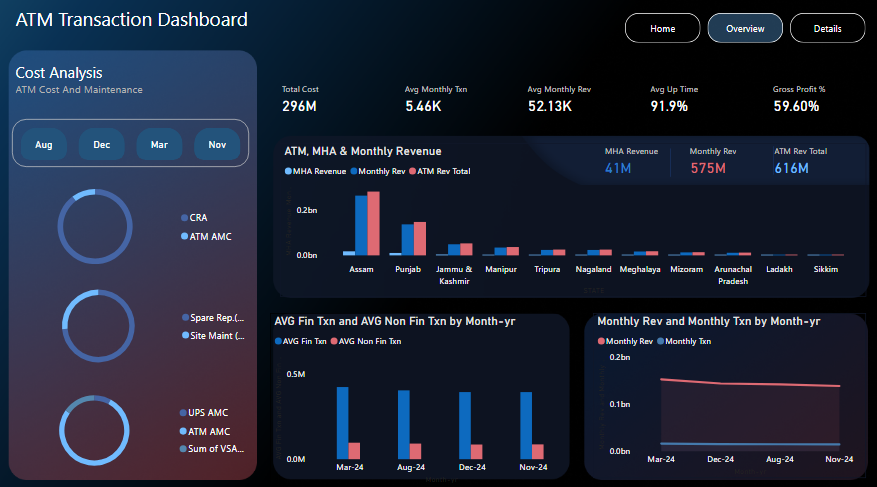

What the dashboard file says about the page in this screenshot:
{"tool":"powerbi","page":{"name":"Overview","canvas":[1280,720],"ordinal":1},"visuals":[{"type":"donutChart","fields":{"Y":["Sum(Dataset.CRA)","Sum(Dataset.ATM AMC)"]},"box":[25.5,262.2,334.5,143.1],"z":0},{"type":"donutChart","fields":{"Y":["Sum(Dataset.Spare Rep.(UPS))","Sum(Dataset.Site Maint (Non Asset))"]},"box":[34,405.4,345.8,138.9],"z":1000},{"type":"donutChart","fields":{"Y":["Sum(Dataset.UPS AMC)","Sum(Dataset.ATM AMC)","Sum(Dataset.VSAT AMC)"]},"box":[25.5,555.6,354.3,134.6],"z":2000},{"type":"clusteredColumnChart","fields":{"Y":["Sum(Dataset.AVG Fin Txn)","Sum(Dataset.AVG Non Fin Txn)"],"Category":["Dataset.Month-yr"]},"box":[399.7,456.4,430.9,245.2],"z":3000},{"type":"cardVisual","fields":{"Data":["Sum(Dataset.MHA Revenue)","Sum(Dataset.Monthly Rev)","Sum(Dataset.ATM Rev Total)"]},"box":[857.1,201.4,372.9,75.7],"z":4000},{"type":"areaChart","fields":{"Category":["Dataset.Month-yr"],"Y":["Sum(Dataset.Monthly Rev)","Sum(Dataset.Monthly Txn)"]},"box":[857.5,456.4,386.9,233.9],"z":5000},{"type":"advancedSlicerVisual","fields":{"Values":["Dataset.Short Month"]},"box":[34,181.4,335.9,68],"z":6000},{"type":"textbox","box":[34.3,94.3,345.7,64.3],"z":7000},{"type":"cardVisual","fields":{"Data":["Sum(Dataset. Total Cost  )","Avg(Dataset.Monthly Txn)","Avg(Dataset.Monthly Rev)","Avg(Dataset.Up Time)","Dataset.Gross Profit Percentage"]},"box":[399.7,112,880.2,80.8],"z":8000},{"type":"clusteredColumnChart","title":"ATM, MHA & Monthly Revenue","fields":{"Y":["Sum(Dataset.MHA Revenue)","Sum(Dataset.Monthly Rev)","Sum(Dataset.ATM Rev Total)"],"Category":["Dataset.STATE"]},"box":[413.9,215.4,830.6,218.3],"z":9000},{"type":"pageNavigator","box":[902.8,31.2,341.6,42.5],"z":10000},{"type":"textbox","box":[34,15.6,345.8,73.7],"z":11000}]}

Visuals, with their boxes in screenshot pixels (x1, y1, x2, y2), scaled from the page's 1280x720 canvas onto the 877x487 screenshot:
donutChart - Sum(Dataset.CRA) x Sum(Dataset.ATM AMC): [left=17, top=177, right=247, bottom=274]
donutChart - Sum(Dataset.Spare Rep.(UPS)) x Sum(Dataset.Site Maint (Non Asset)): [left=23, top=274, right=260, bottom=368]
donutChart - Sum(Dataset.UPS AMC) x Sum(Dataset.ATM AMC): [left=17, top=376, right=260, bottom=467]
clusteredColumnChart - Sum(Dataset.AVG Fin Txn) x Sum(Dataset.AVG Non Fin Txn): [left=274, top=309, right=569, bottom=475]
cardVisual - Sum(Dataset.MHA Revenue) x Sum(Dataset.Monthly Rev): [left=587, top=136, right=843, bottom=187]
areaChart - Dataset.Month-yr x Sum(Dataset.Monthly Rev): [left=588, top=309, right=853, bottom=467]
advancedSlicerVisual - Dataset.Short Month: [left=23, top=123, right=253, bottom=169]
textbox: [left=24, top=64, right=260, bottom=107]
cardVisual - Sum(Dataset. Total Cost  ) x Avg(Dataset.Monthly Txn): [left=274, top=76, right=876, bottom=130]
"ATM, MHA & Monthly Revenue" clusteredColumnChart: [left=284, top=146, right=853, bottom=293]
pageNavigator: [left=619, top=21, right=853, bottom=50]
textbox: [left=23, top=11, right=260, bottom=60]
